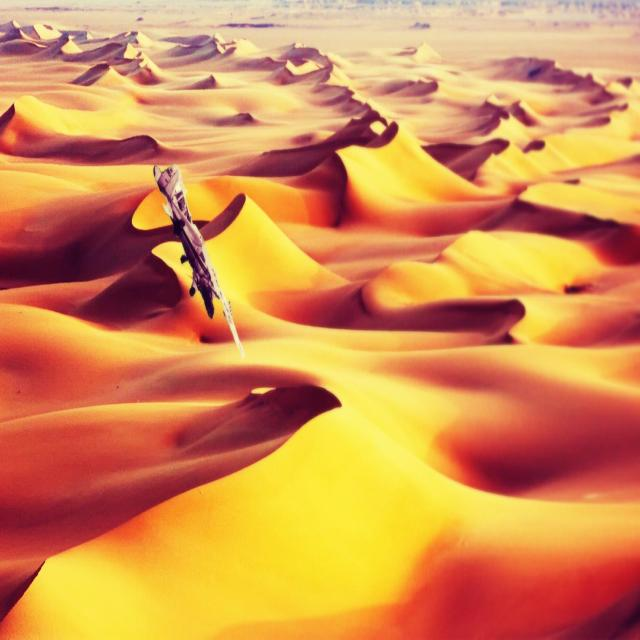airplane: (152, 162, 246, 358)
